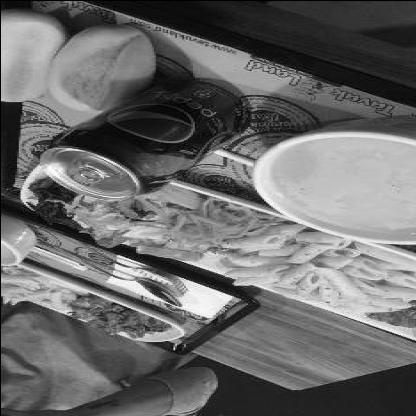alumunium_can: (37, 77, 249, 200)
